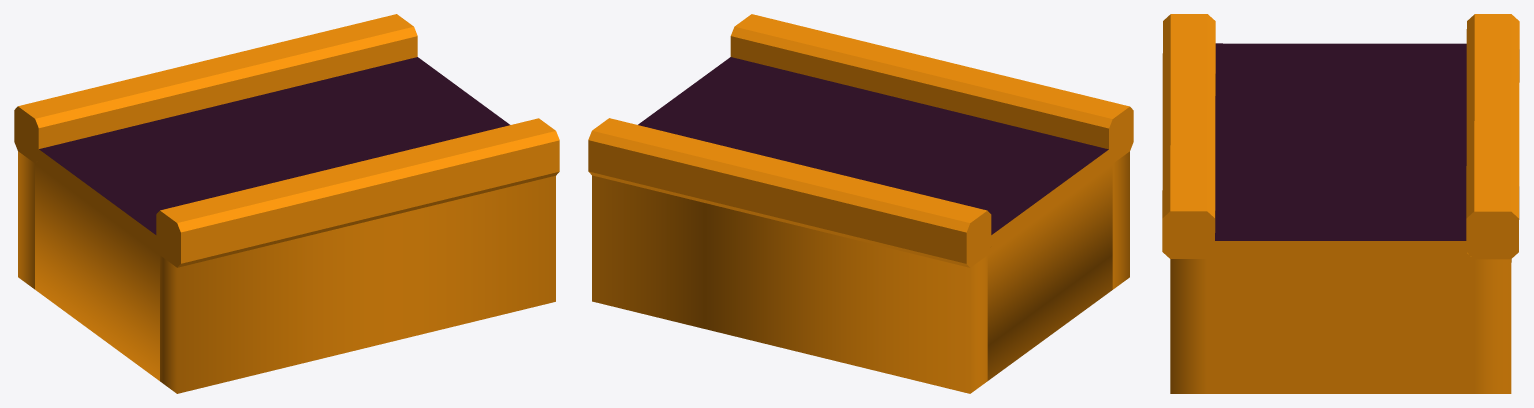
The model's file is NewStraightConveyor.fbx.
The picture shows the model from 3 angles, left to right: view 1: azimuth 30°, elevation 25°; view 2: azimuth 150°, elevation 25°; view 3: azimuth 270°, elevation 25°; orthographic projection. The views are drawn at different scales.
Parts seen in each view (by area): view 1: Conveyor08; view 2: Conveyor08; view 3: Conveyor08.
Boxes of the visible parts, x1,y1,x2,y2 form: Conveyor08: [14, 14, 559, 393]; Conveyor08: [588, 14, 1133, 393]; Conveyor08: [1162, 14, 1519, 393].
Size of the model in its own units: 6.1 by 2.63 by 4.66.
Materials: 1 (1 with a texture image).
